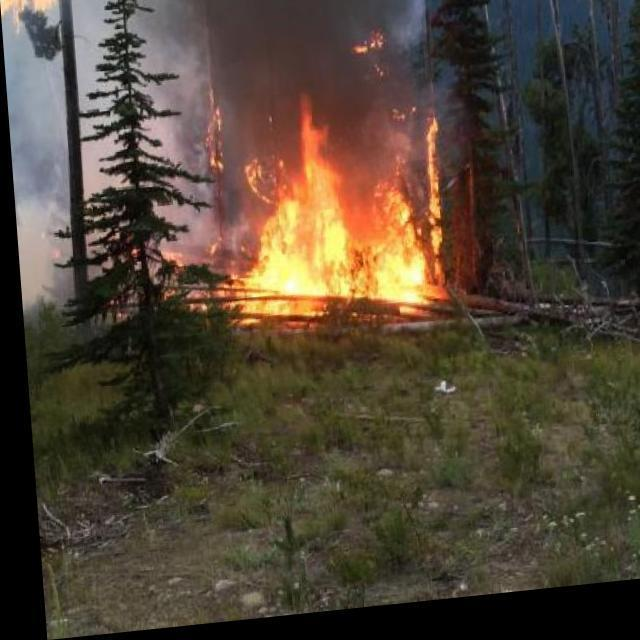Fire: (133, 46, 465, 357)
Smoke: (0, 0, 476, 307)
